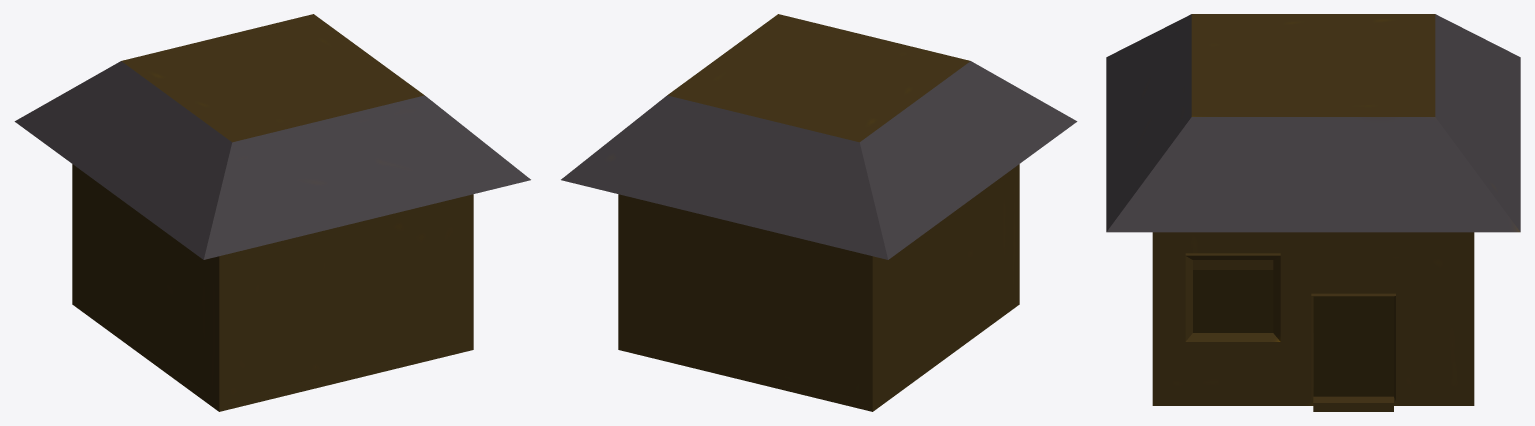
The model's file is house.obj.
3 renders of one model, left to right at view 1: azimuth 30°, elevation 25°; view 2: azimuth 150°, elevation 25°; view 3: azimuth 270°, elevation 25°, orthographic. The views are drawn at different scales.
Visible parts, largest first — view 1: Cube; view 2: Cube; view 3: Cube.
Boxes of the visible parts, <box> form: Cube: <box>14,14,530,411</box>; Cube: <box>561,14,1077,411</box>; Cube: <box>1106,14,1520,411</box>.
Size of the model in its own units: 2.58 by 1.87 by 2.58.
